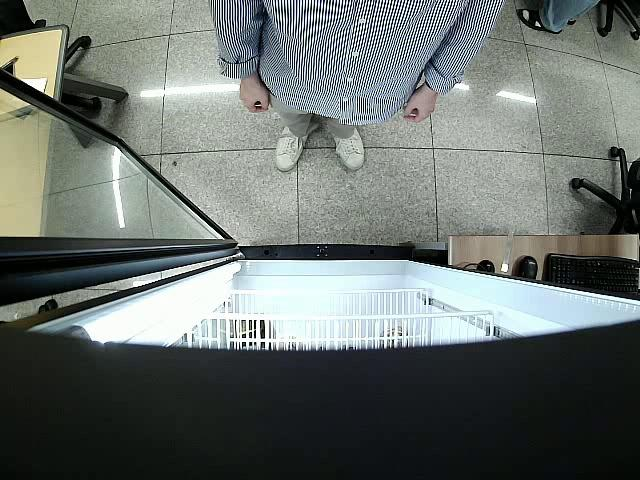00_hand: (400, 86, 436, 123), (239, 76, 271, 114)
